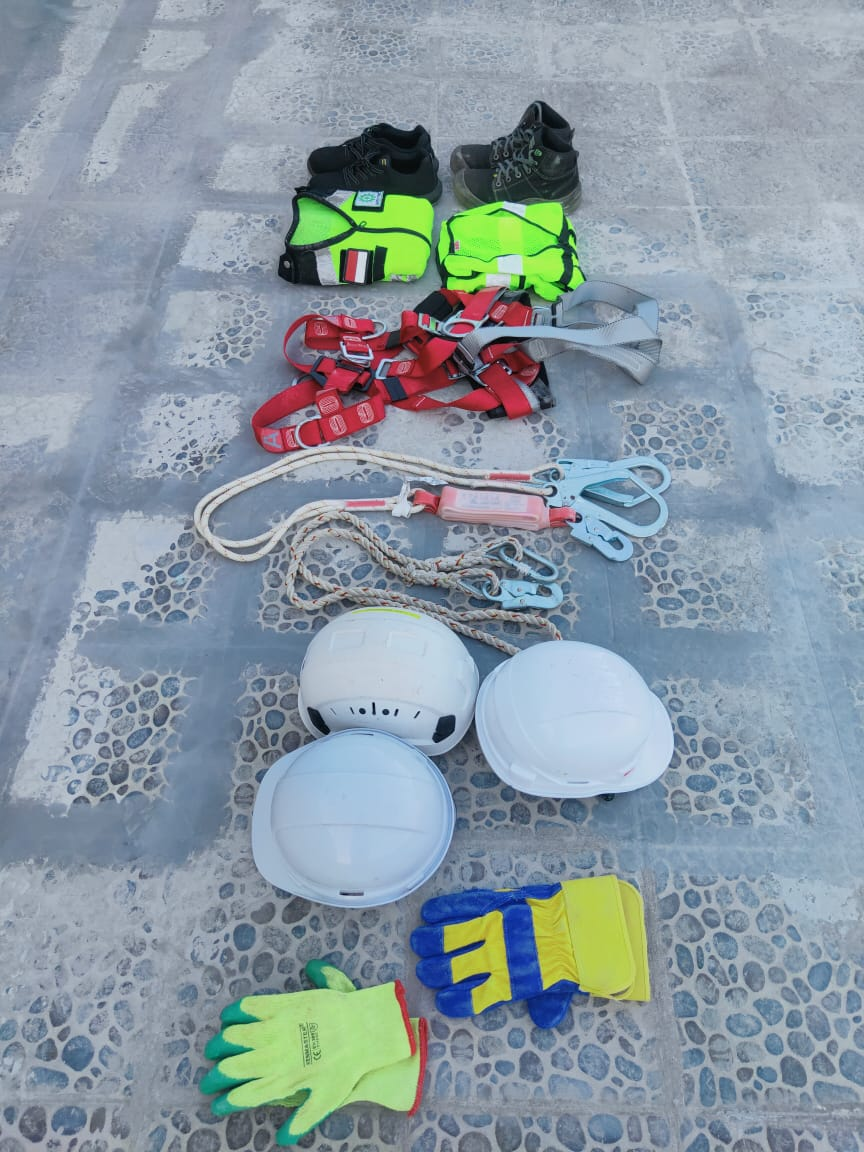SARUNG_TANGAN: (421, 888, 651, 1005)
SEPATU: (455, 118, 577, 200)
